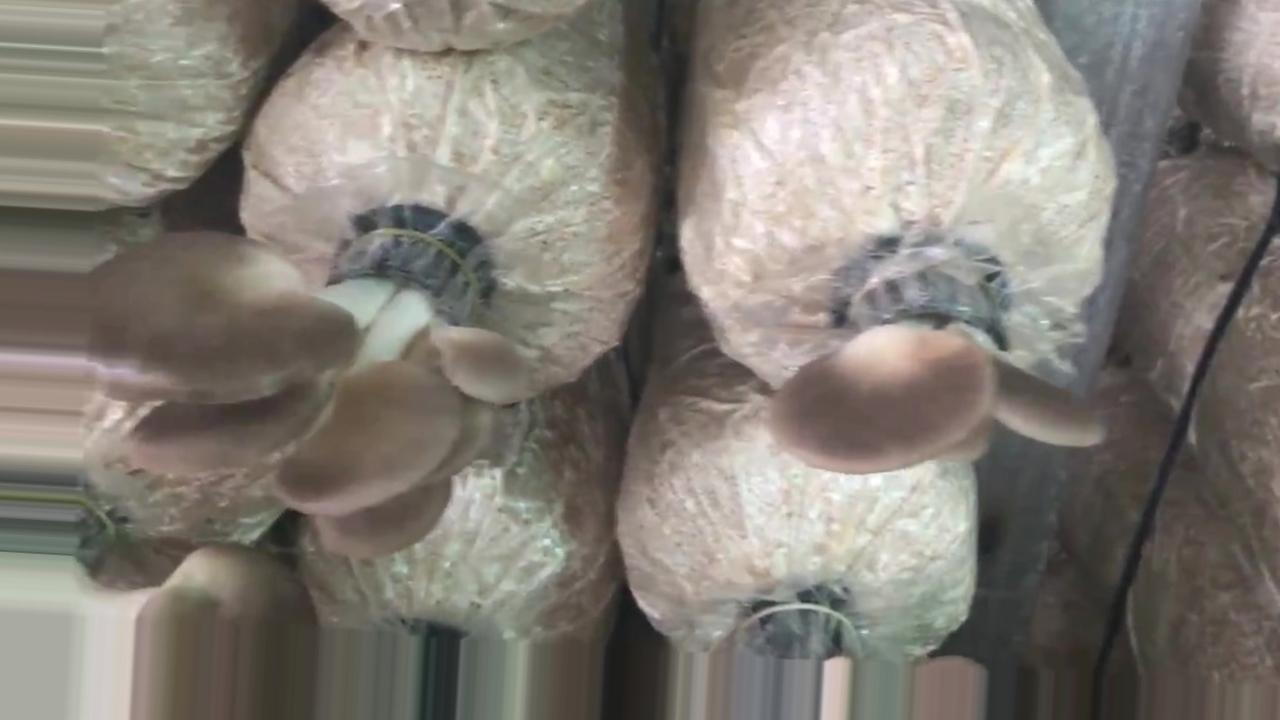nam: (93, 230, 543, 563), (770, 255, 1113, 475)
